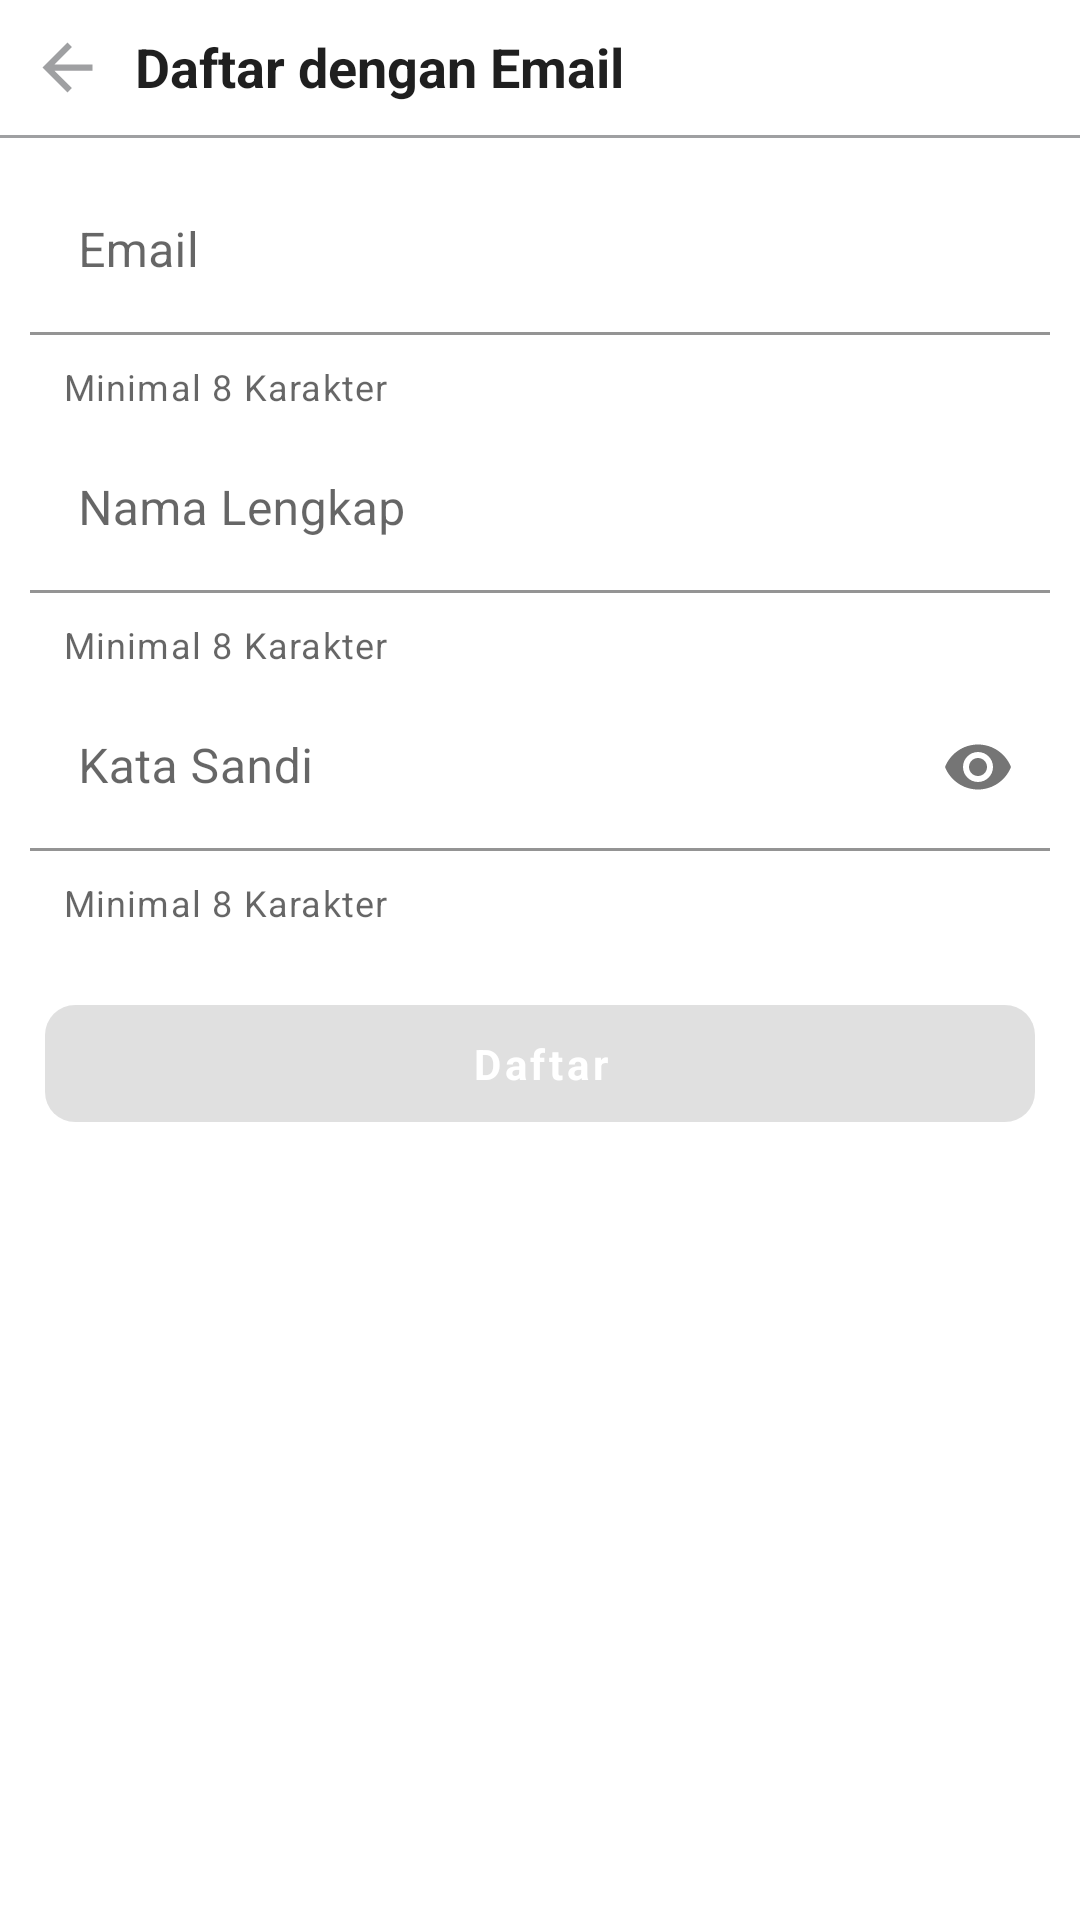

Icon bounding boxes for this 1080x1920 phone screenshot, format (x1, y1, x2, y2):
back: (43, 43, 93, 92)
